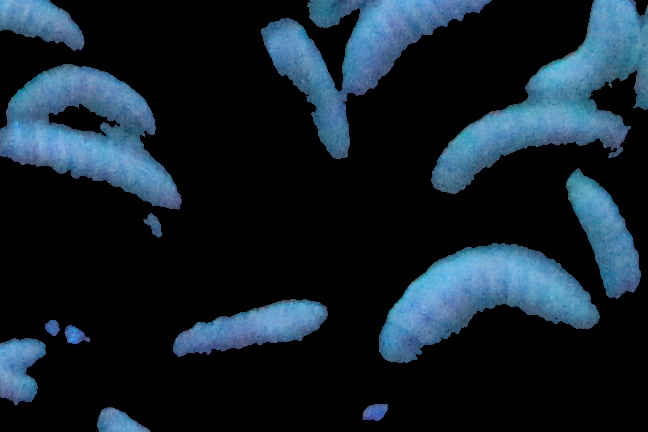larvae: (373, 250, 599, 376), (428, 108, 626, 199), (1, 121, 177, 212), (344, 1, 495, 105), (259, 3, 348, 163), (522, 1, 644, 105), (559, 172, 644, 312), (3, 64, 157, 141), (168, 301, 330, 374), (1, 1, 88, 54), (1, 337, 47, 404)
